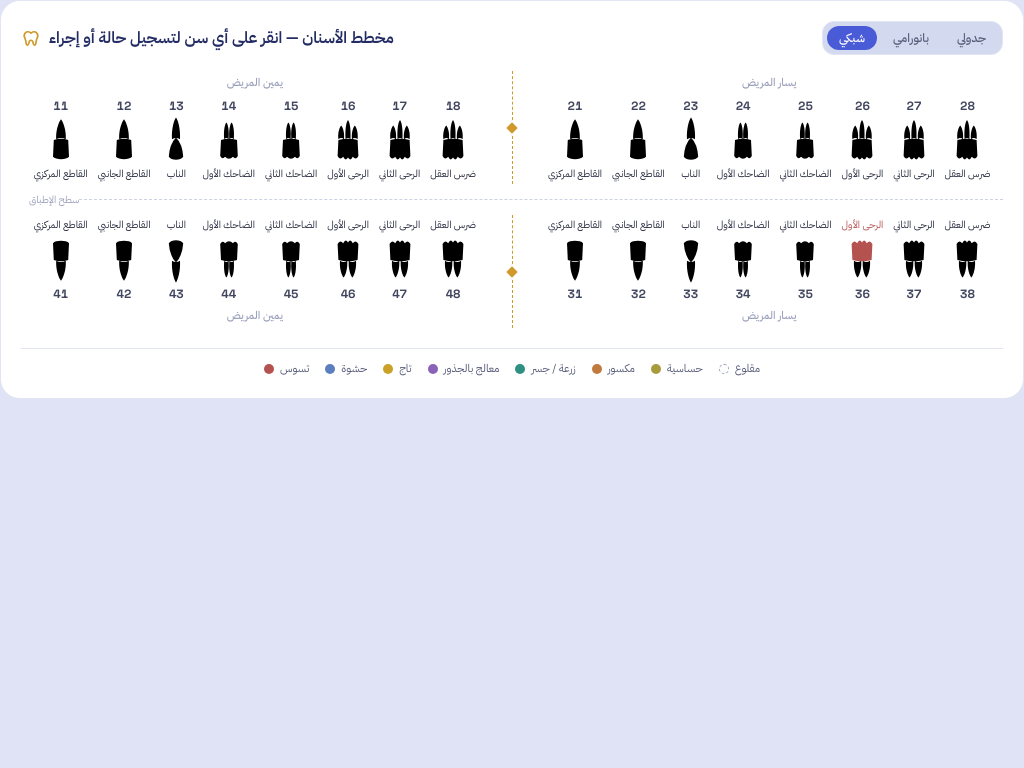
it: مبدّل عروض مخطط الأسنان › الجدولي يعرض رباعاته الأربعة والنقر على سن يفتح لوحة التسجيل
Click the button "جدولي" at (971, 38), box [945, 26, 998, 50]
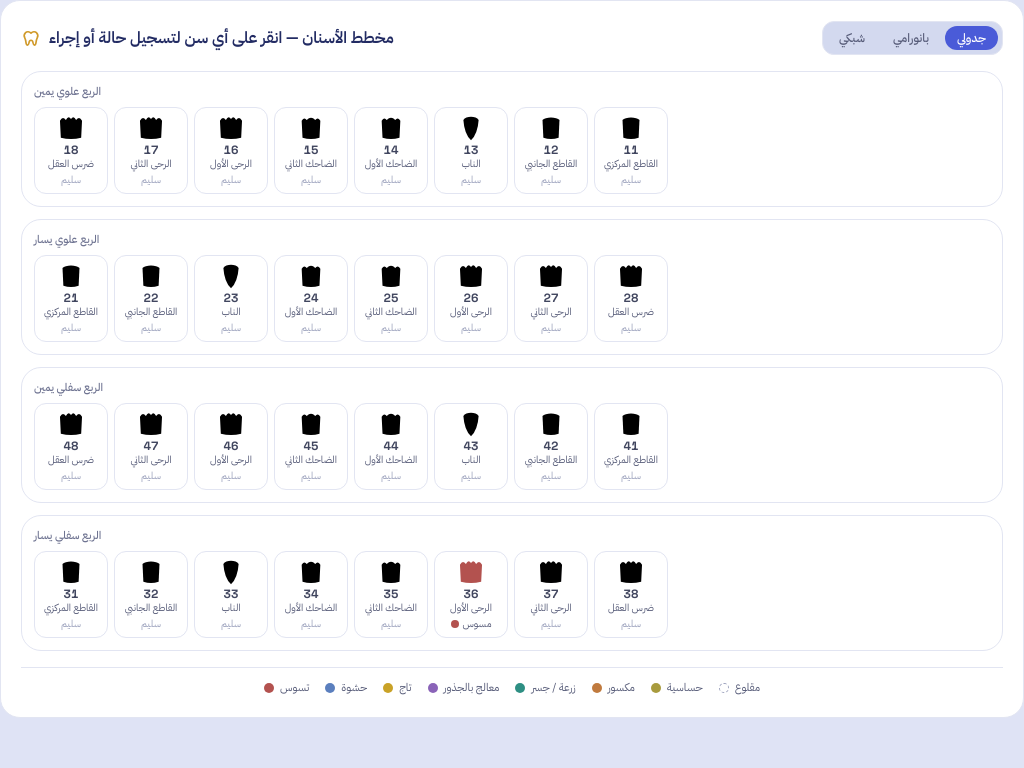
Check: the text "الربع علوي يمين" is shown 4 times, box [34, 83, 101, 100]; [34, 231, 99, 248]; [34, 379, 103, 396]; [34, 527, 101, 544]
Check: the text "الربع علوي يمين" is shown, box [34, 83, 101, 100]
Check: the text "الربع سفلي يسار" is shown, box [34, 527, 101, 544]
Click the button with aria-label "سن 36" at (471, 594), box [434, 550, 508, 638]
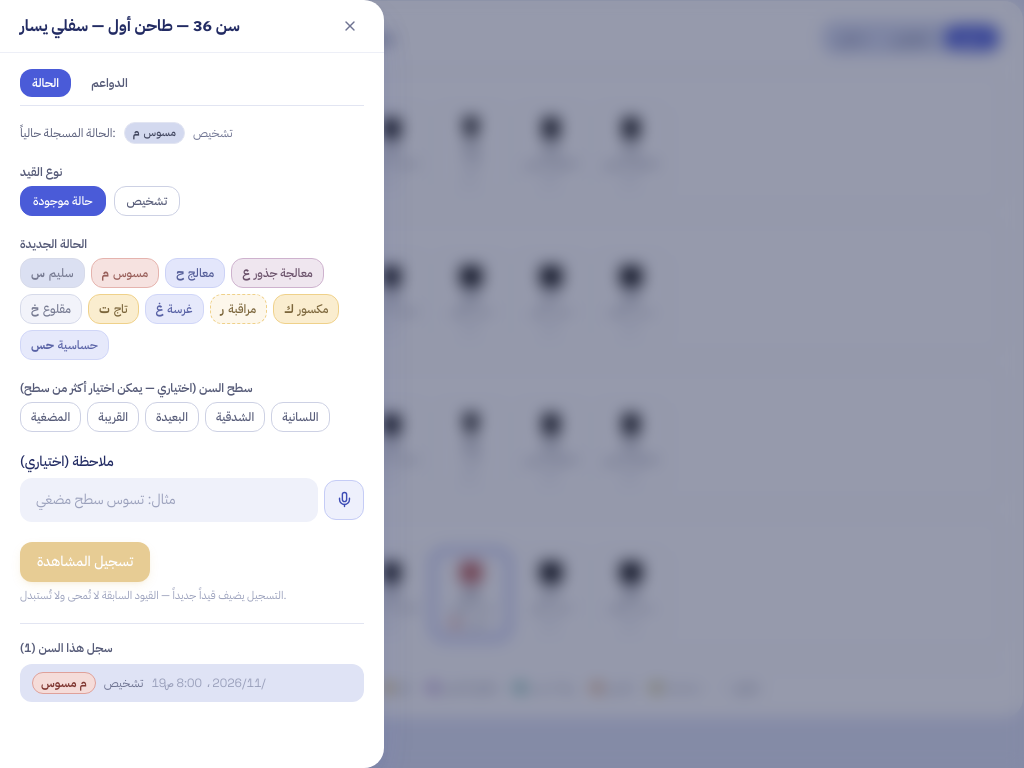
Check: the dialog is shown, box [0, 0, 384, 767]
Check: the text "نوع القيد" is shown, box [20, 163, 62, 181]
